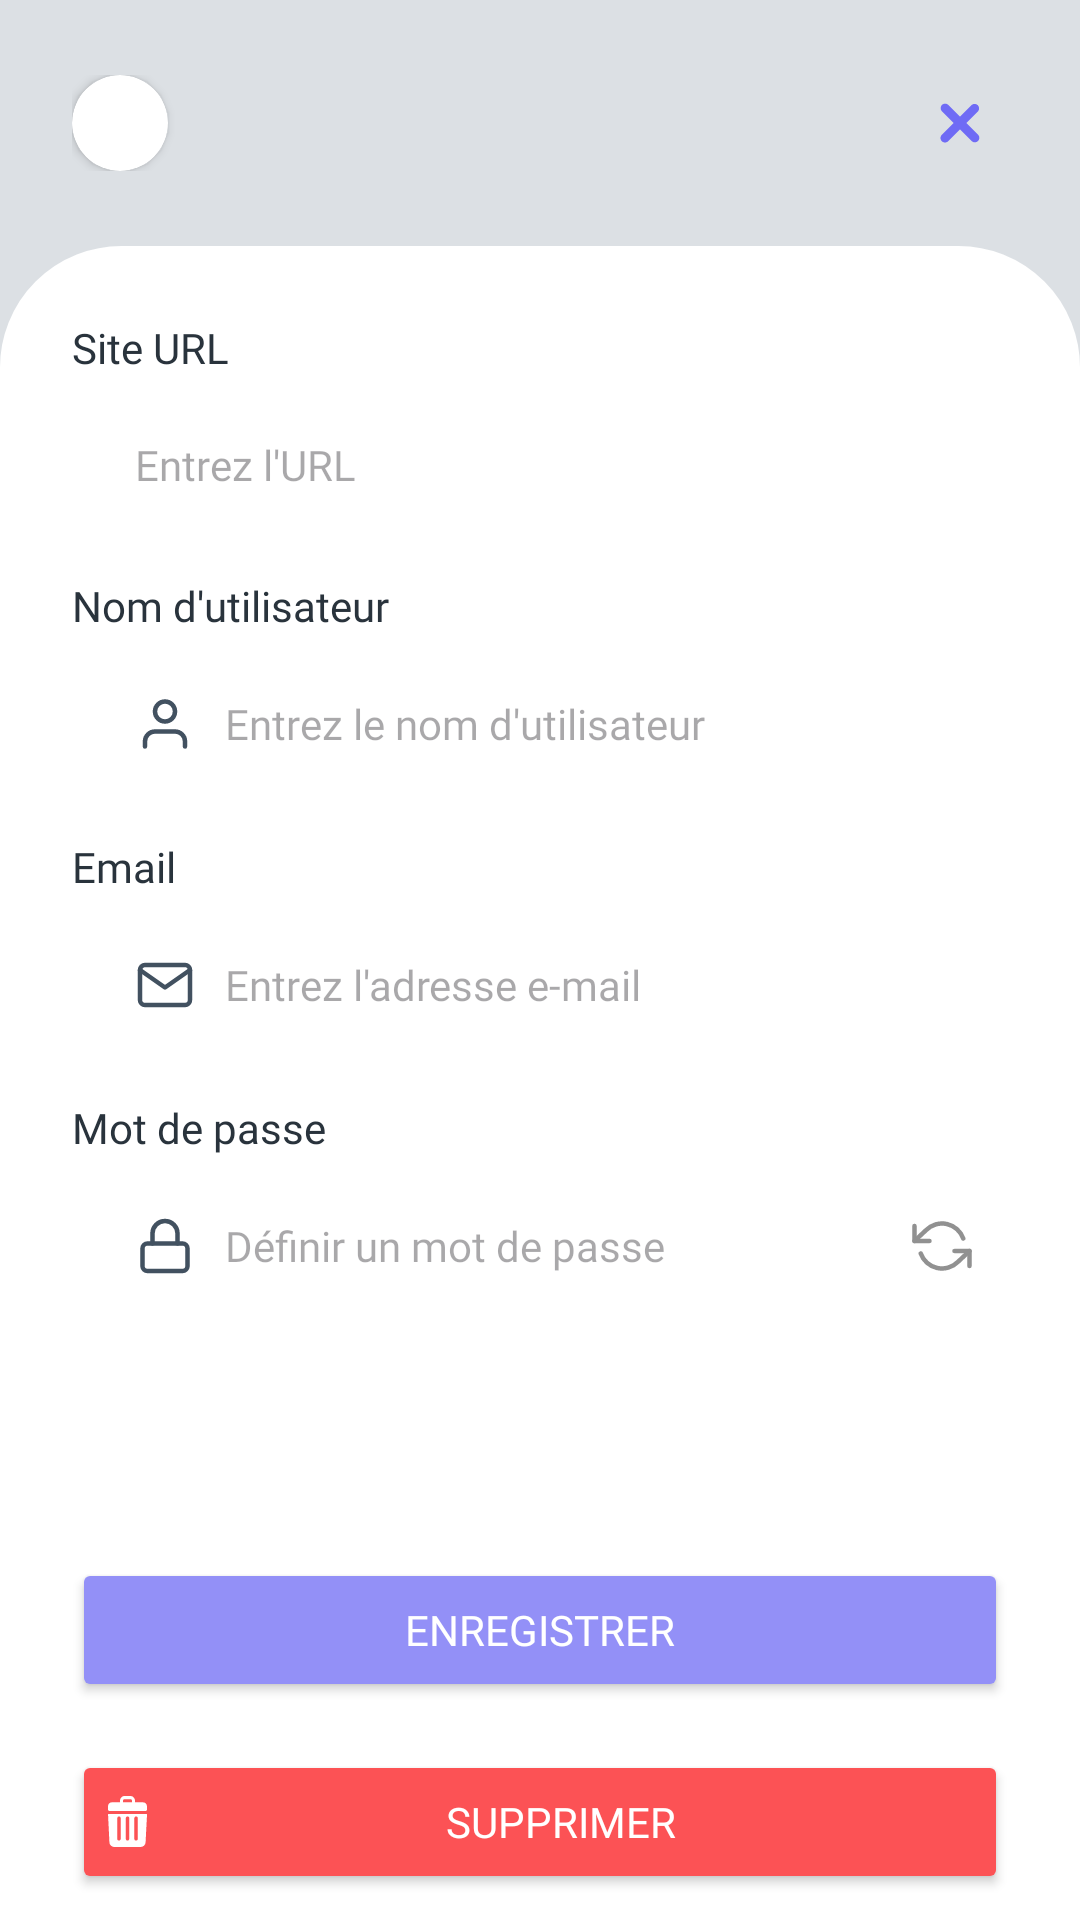

Icon bounding boxes for this 1080x1920 phone screenshot, format box=[x1, y1, x2, y2]:
close: box=[940, 103, 980, 143]
refresh ccw: box=[912, 1221, 972, 1271]
